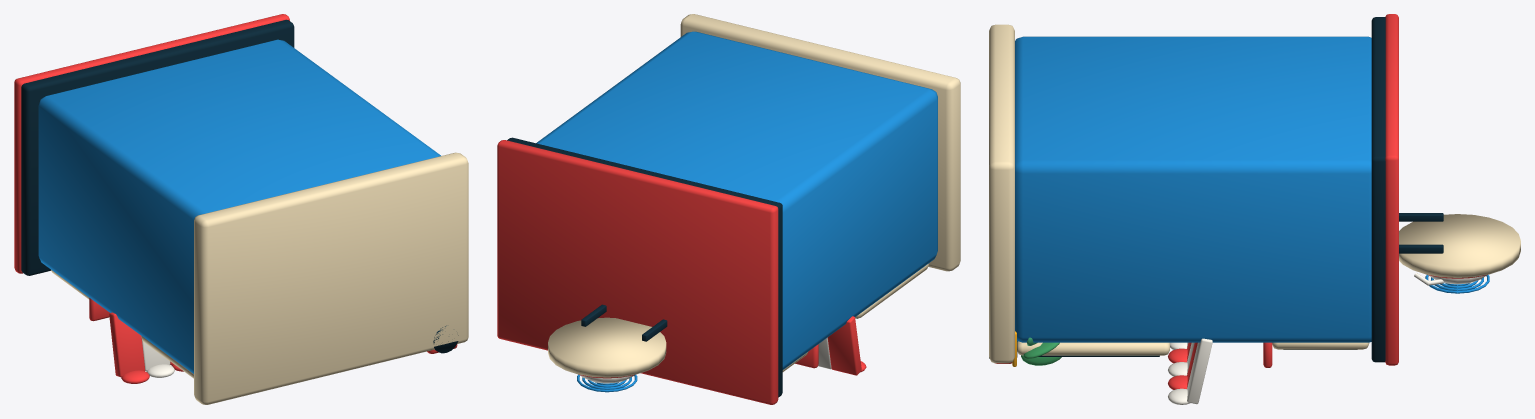
Rendered from ArcadeFacade1.fbx.
3 views of the same model, side by side, from view 1: azimuth 30°, elevation 25°; view 2: azimuth 150°, elevation 25°; view 3: azimuth 270°, elevation 25° (orthographic). The views are drawn at different scales.
Parts seen in each view (by area): view 1: ArcadeFacade1; view 2: ArcadeFacade1; view 3: ArcadeFacade1.
Boxes of the visible parts, x1,y1,x2,y2 form: ArcadeFacade1: [14, 14, 468, 404]; ArcadeFacade1: [497, 14, 960, 404]; ArcadeFacade1: [989, 14, 1520, 404].
Size of the model in its own units: 2.92 by 2.42 by 4.54.
